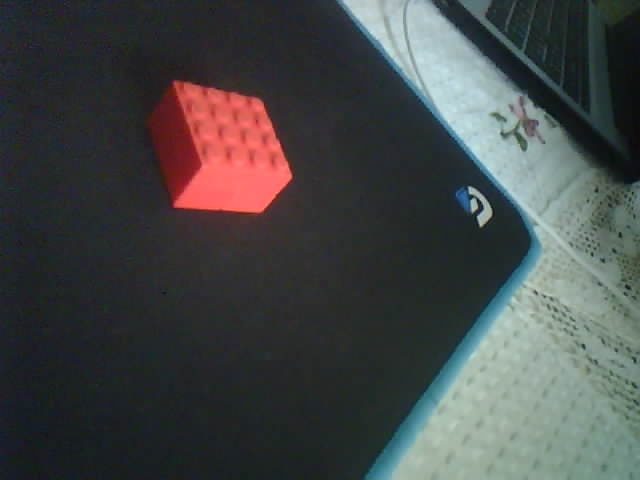lego: (146, 79, 293, 215)
